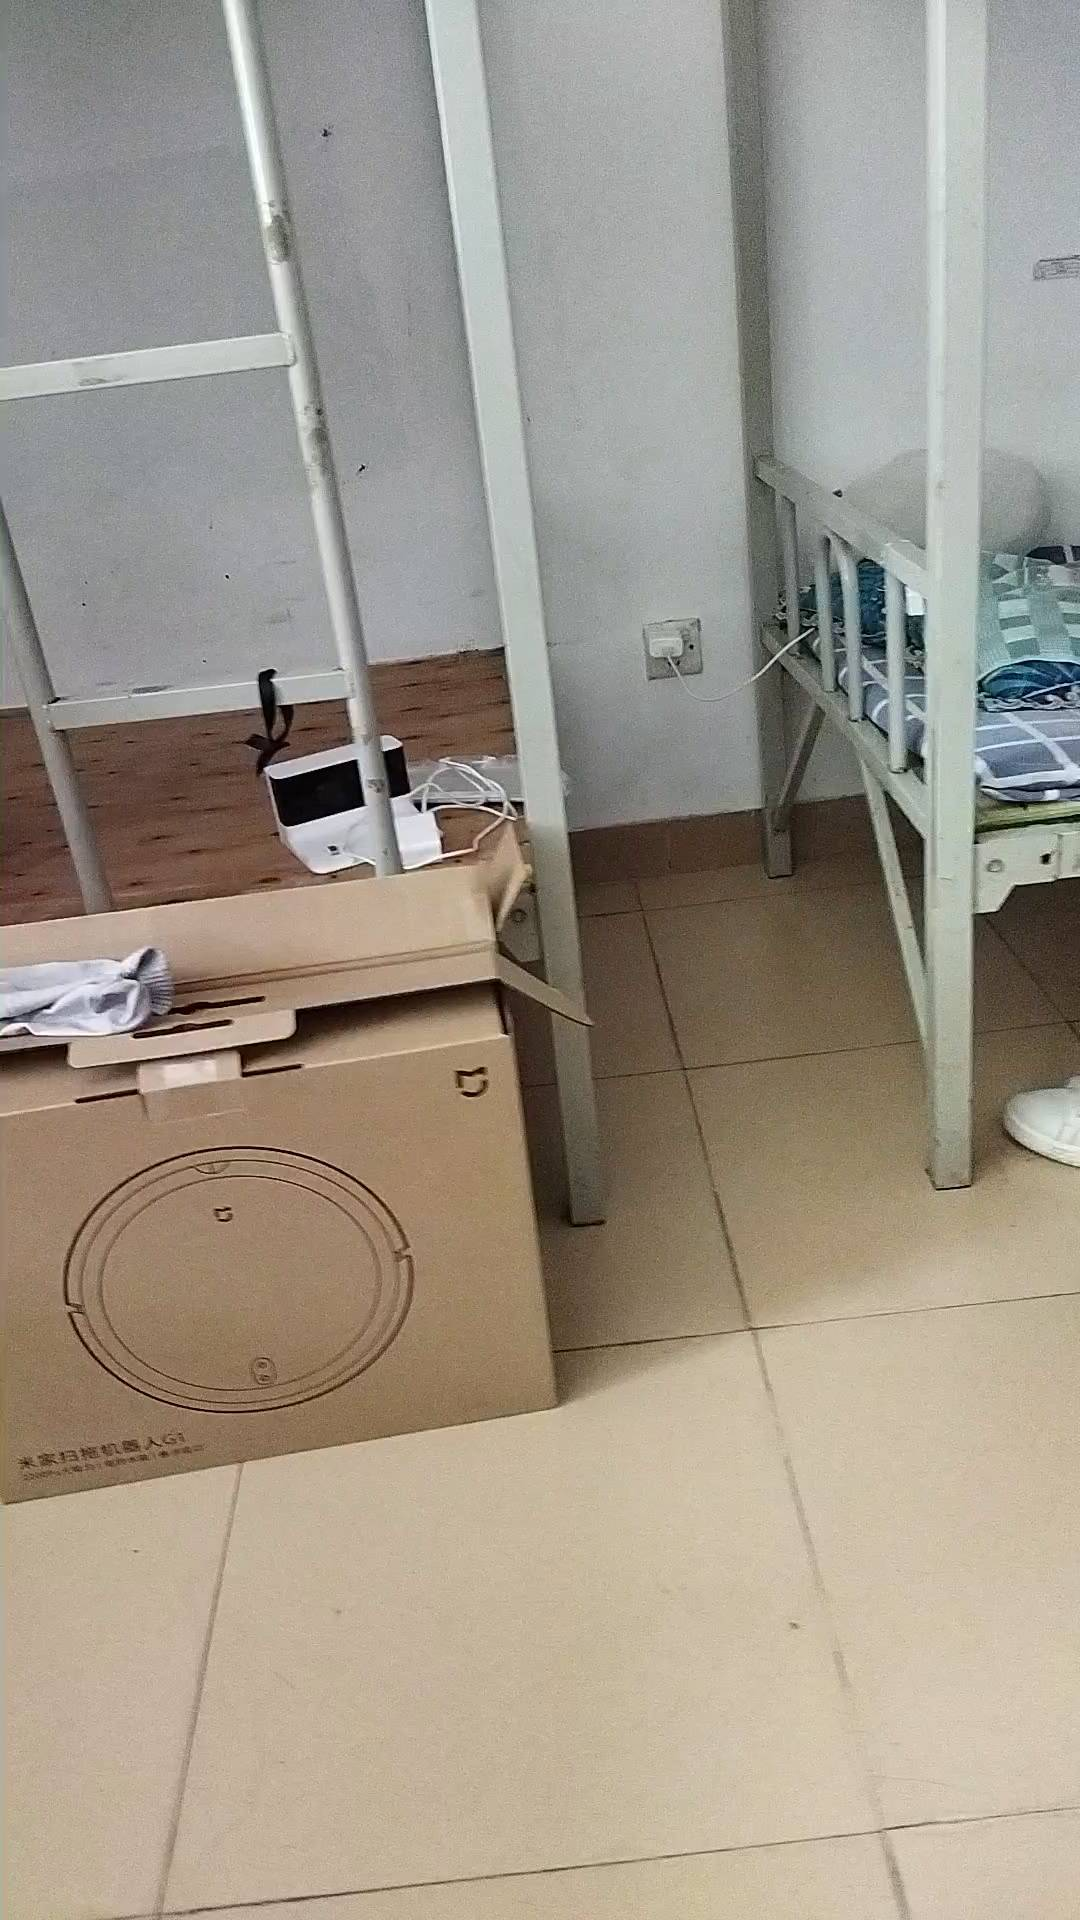recharge seat: (257, 735, 418, 872)
